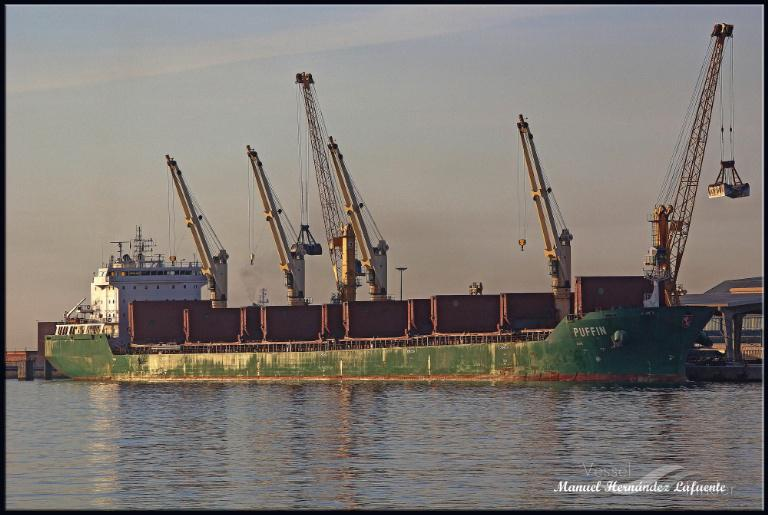OCR: (566, 322, 606, 342)
